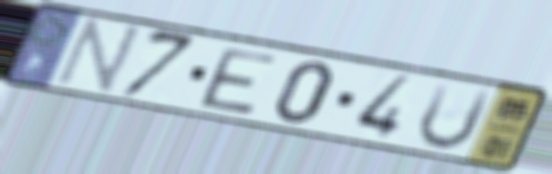0: (270, 59, 337, 126)
4: (349, 71, 419, 144)
7: (114, 25, 202, 102)
E: (196, 46, 282, 118)
N: (49, 16, 147, 99)
U: (415, 79, 498, 153)
